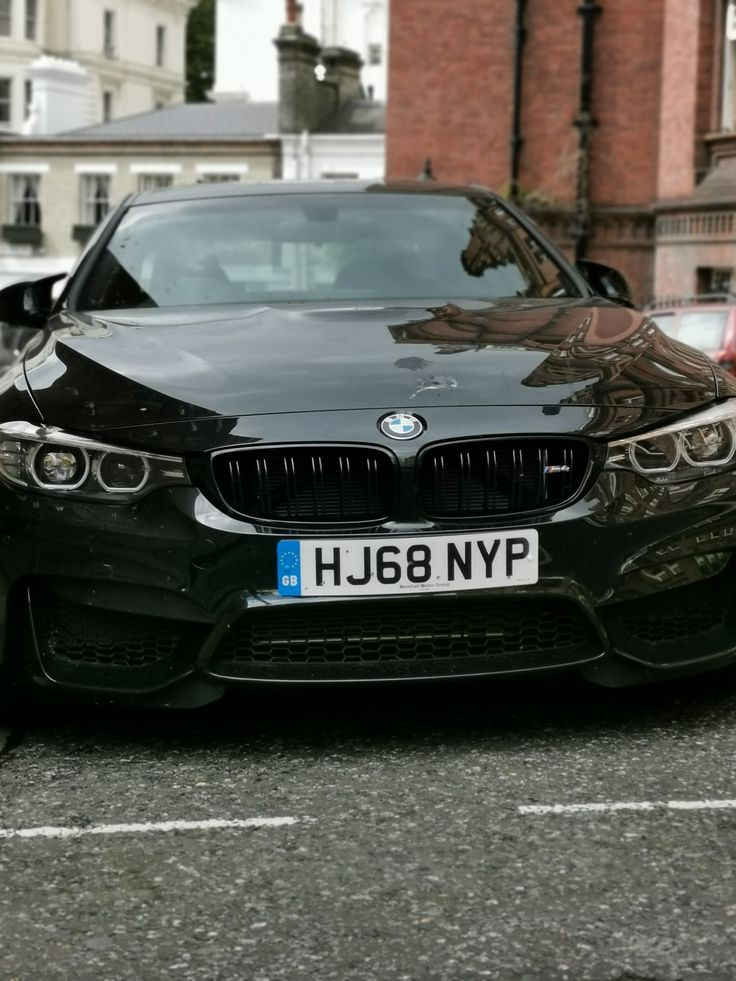plate: (264, 528, 539, 602)
